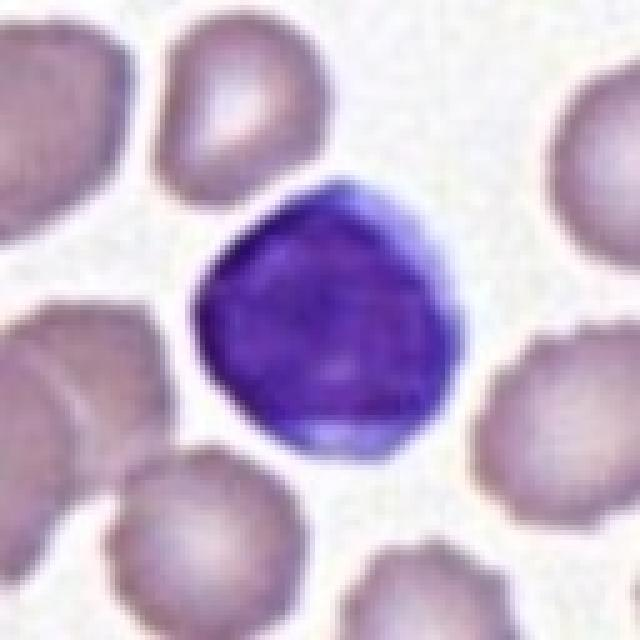lympho: (185, 166, 475, 469)
